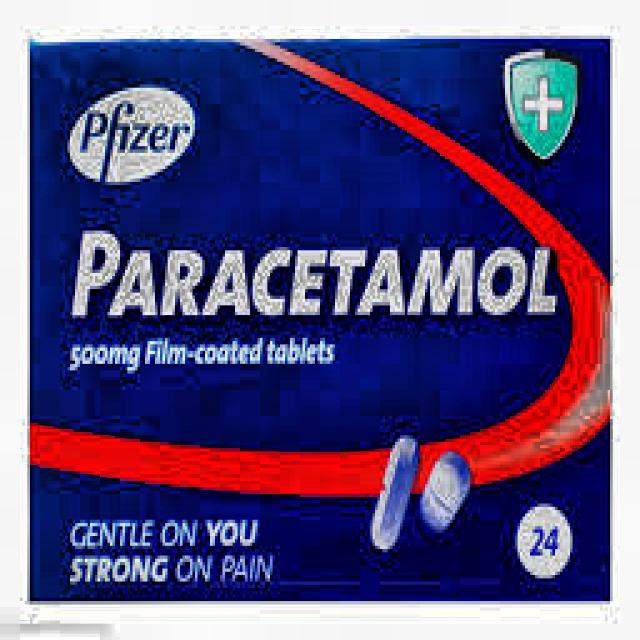Paracetamol: (75, 193, 599, 384)
